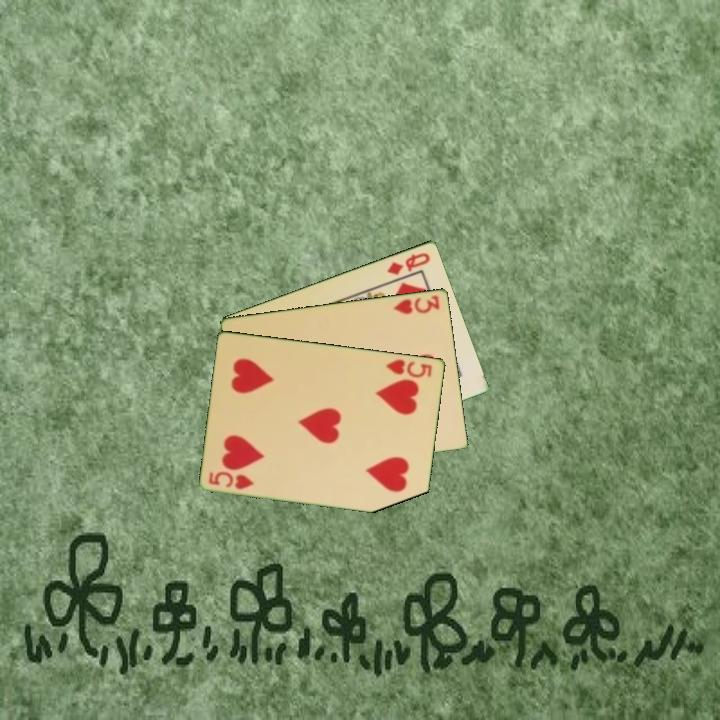3h: (390, 291, 443, 317)
5h: (383, 355, 435, 380), (205, 468, 257, 492)
Qd: (384, 249, 433, 278)
